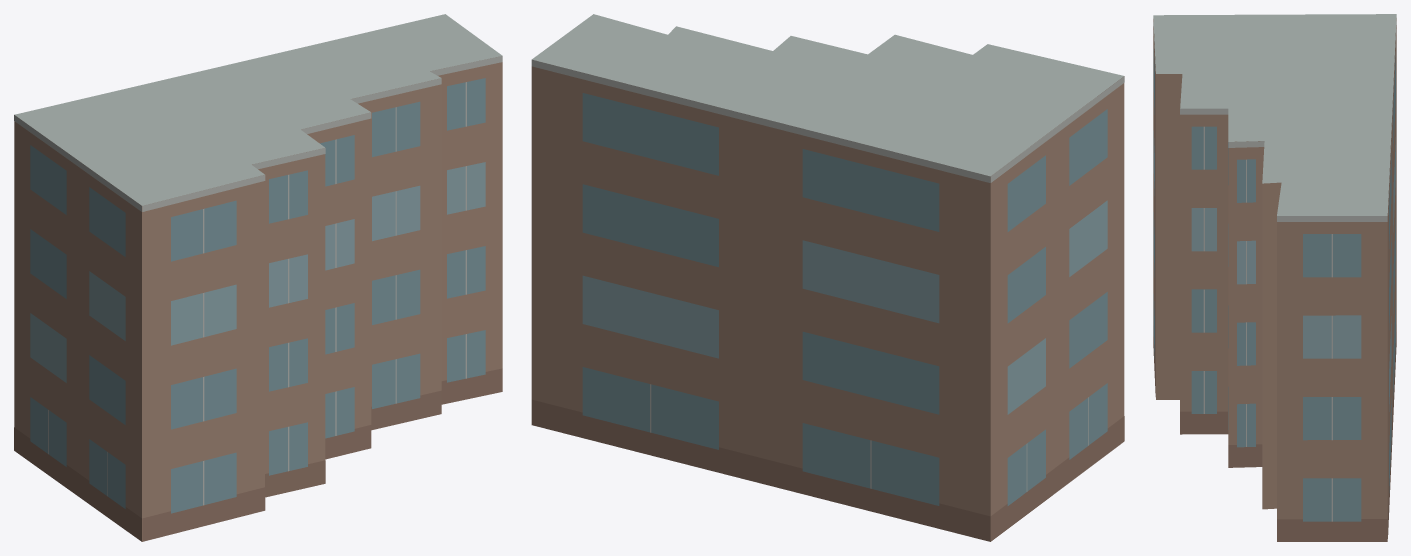
File: survey-upis-32704682.glb
The picture shows the model from 3 angles, left to right: view 1: azimuth 30°, elevation 25°; view 2: azimuth 150°, elevation 25°; view 3: azimuth 270°, elevation 25°; orthographic projection. The views are drawn at different scales.
Parts seen in each view (by area): view 1: survey-upis-32704682.tmp; view 2: survey-upis-32704682.tmp; view 3: survey-upis-32704682.tmp.
Part boxes in pixels (box(x1,y1,x2,y2)): survey-upis-32704682.tmp: box(14, 14, 502, 541); survey-upis-32704682.tmp: box(531, 14, 1124, 541); survey-upis-32704682.tmp: box(1153, 14, 1396, 541).
Size of the model in its own units: 17.49 by 13.15 by 8.91.
